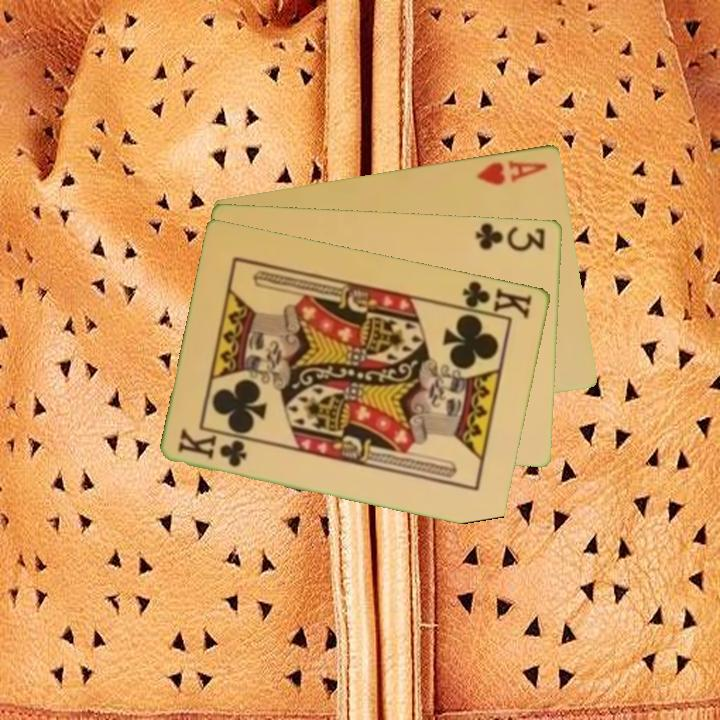3c: (472, 219, 548, 254)
Ah: (473, 156, 551, 188)
Kc: (453, 277, 536, 321), (175, 425, 250, 470)
